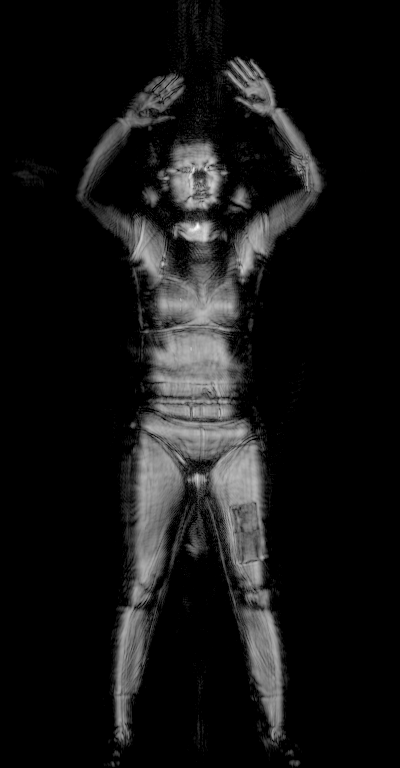head: (157, 136, 230, 216)
others: (228, 499, 269, 567), (288, 149, 317, 192)
person: (75, 56, 322, 768)
